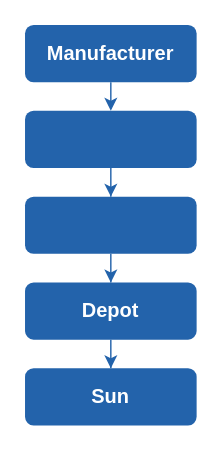
The diagram is 220 pixels wide and 449 high, and some of its shapes have lost their labels. Here are the shapes that lost their labels. From the top down, the centre of each, then its label:
the point at 110,138: Distributor
the point at 110,224: Branch
